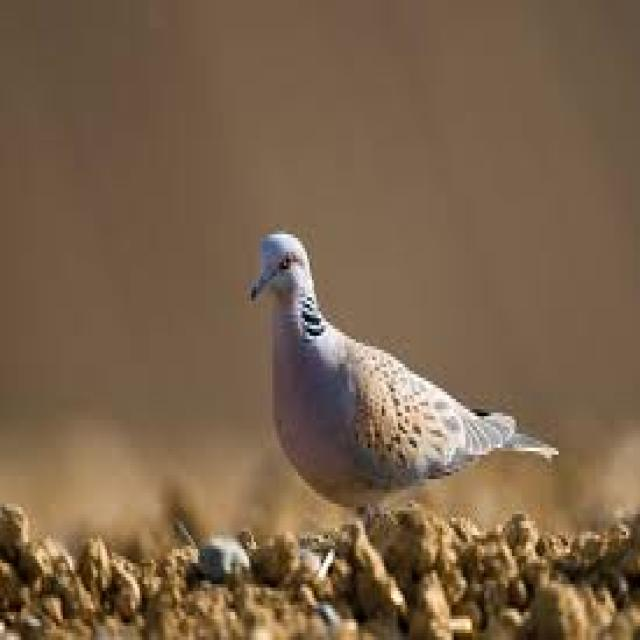pigeon: (247, 214, 577, 547)
